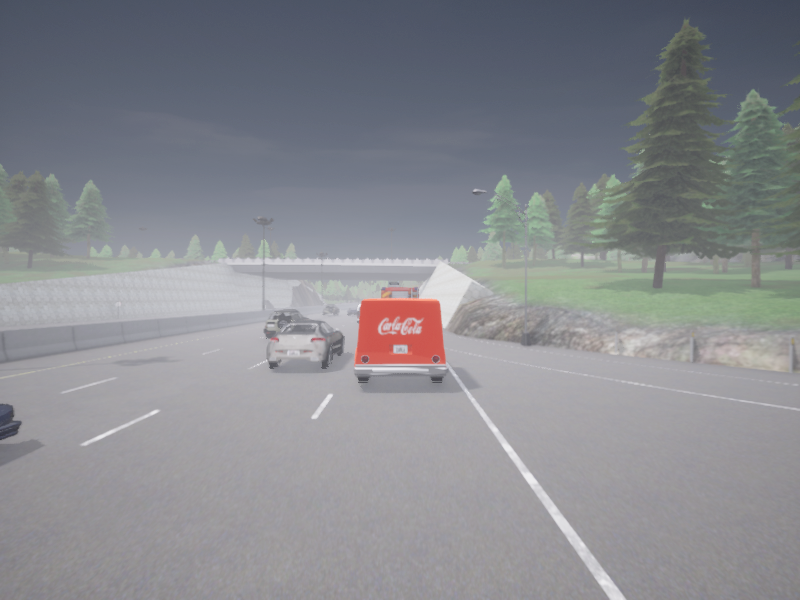vehicle: (354, 298, 447, 382), (267, 320, 343, 368), (264, 308, 308, 339), (0, 403, 22, 440), (381, 281, 418, 297), (323, 304, 339, 315), (348, 307, 357, 315), (357, 304, 360, 322)
